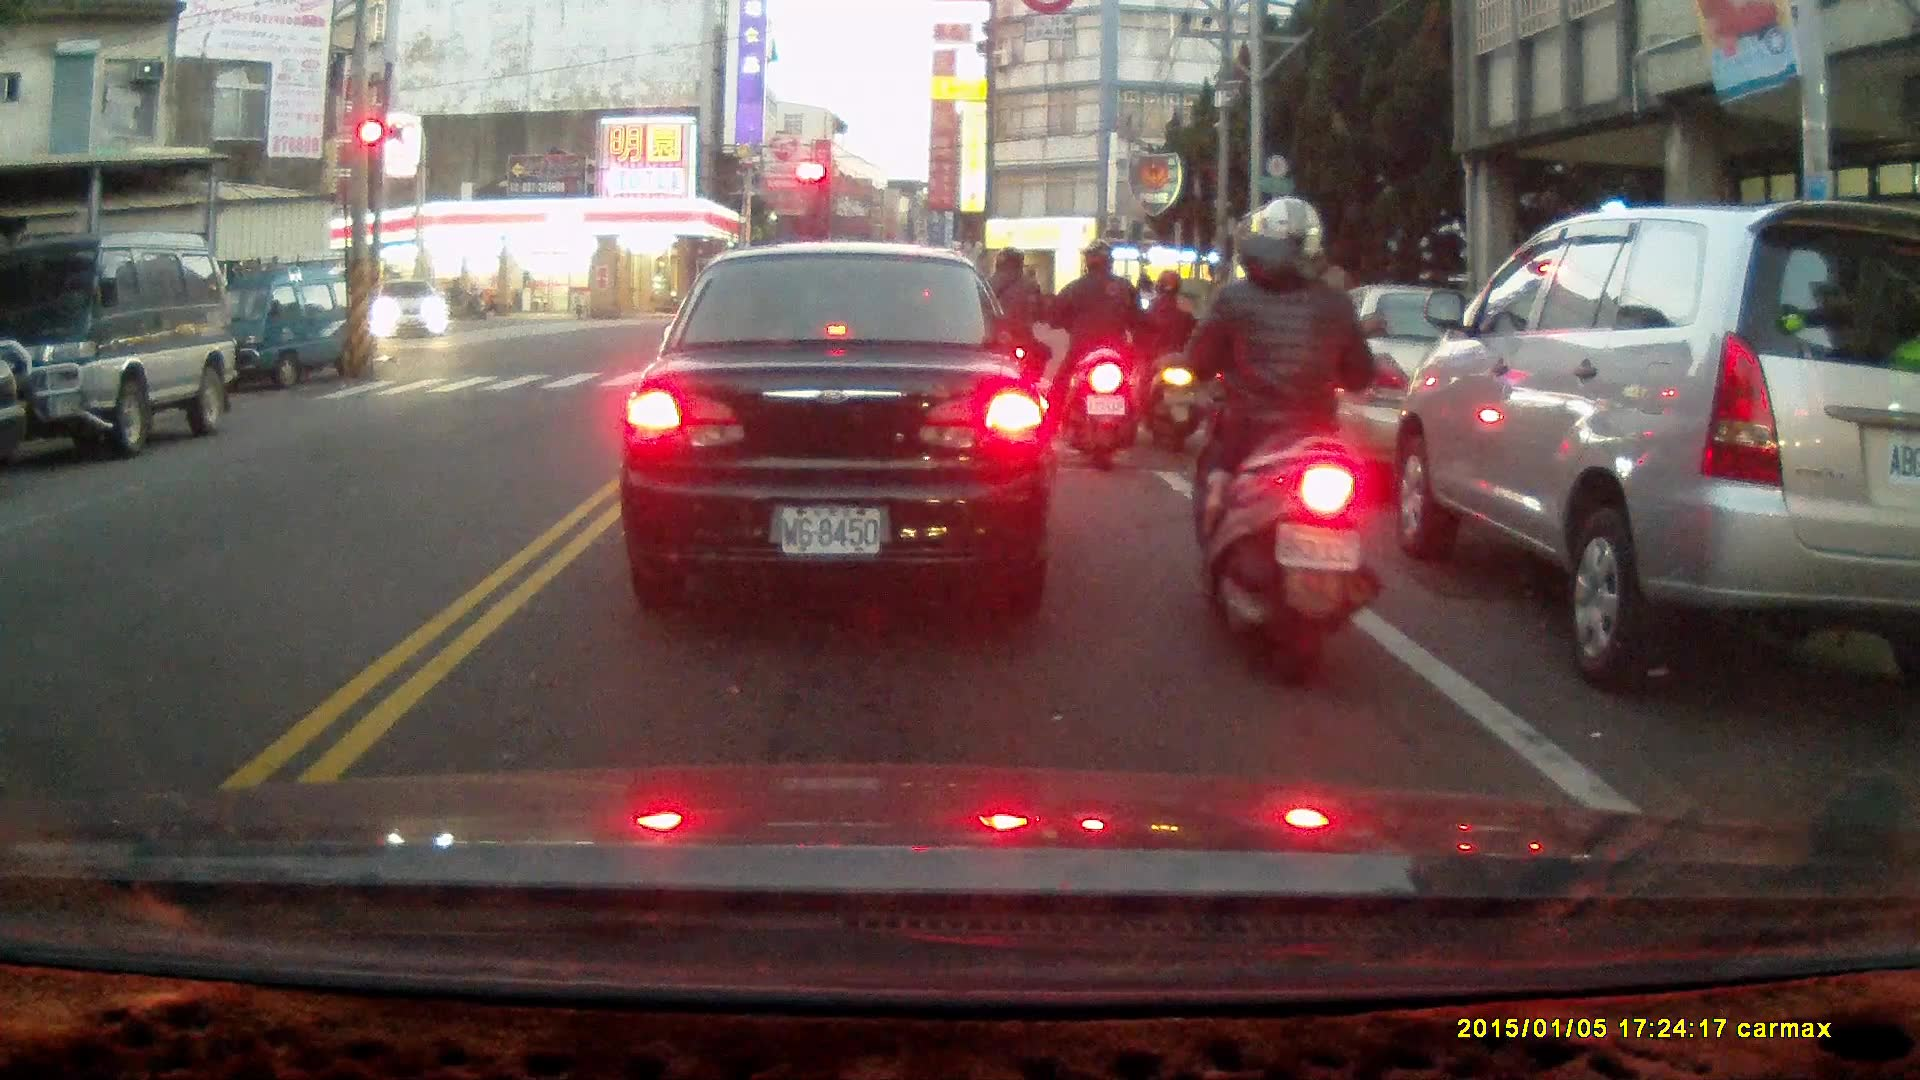rider: (1182, 193, 1384, 692), (1048, 242, 1141, 468), (962, 248, 1051, 431), (1135, 270, 1205, 451), (436, 277, 479, 316)
vehicle: (1381, 207, 1915, 694), (633, 245, 1055, 600), (1262, 297, 1602, 492), (1, 234, 239, 456), (188, 261, 380, 393), (372, 277, 451, 343)
